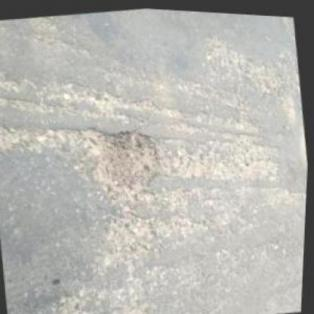Hueco: (81, 115, 167, 198)
